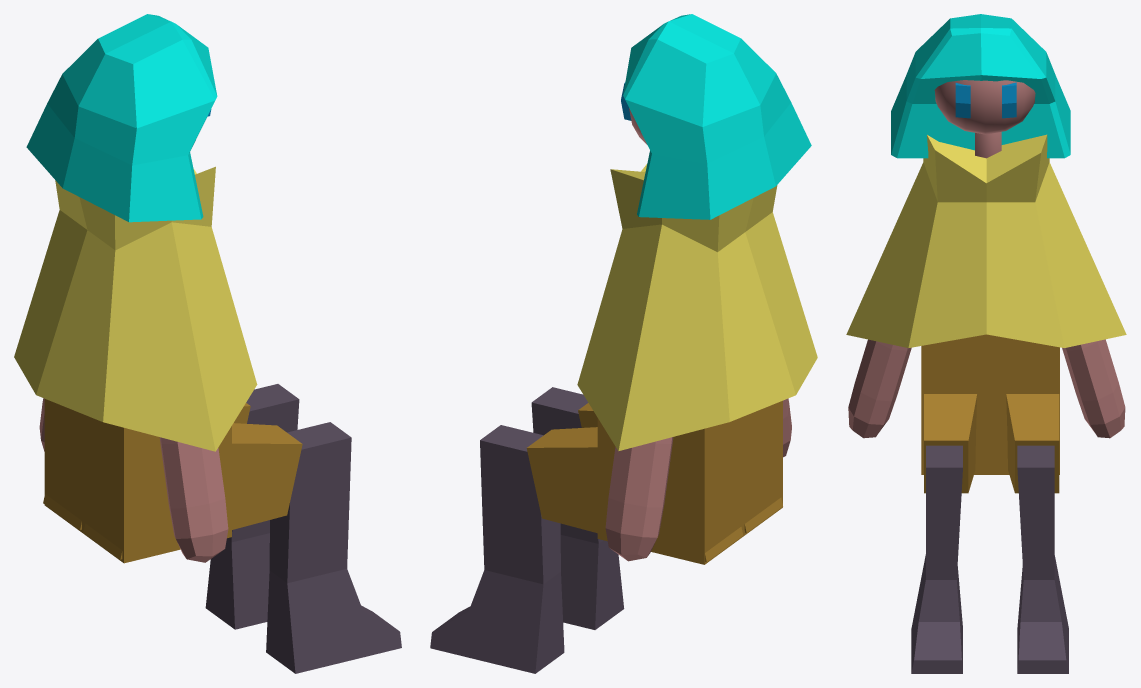
The model's file is npc3.fbx.
3 views of the same model, side by side, from view 1: azimuth 30°, elevation 25°; view 2: azimuth 150°, elevation 25°; view 3: azimuth 270°, elevation 25° (orthographic). The views are drawn at different scales.
Parts seen in each view (by area): view 1: Cube.002, Cube.008, Cube.003, Cube.006, Cube.007, Cube.004; view 2: Cube.002, Cube.008, Cube.003, Cube.006, Cube.007, Cube.004; view 3: Cube.002, Cube.003, Cube.008, Cube.006, Cube.004, Cube.007, Cube, Cube.005, Cube.001.
Boxes of the visible parts, x1,y1,x2,y2 form: Cube.002: (14,166,257,451); Cube.008: (26,14,217,222); Cube.003: (205,384,401,673); Cube.006: (44,399,231,563); Cube.007: (43,403,302,559); Cube.004: (39,398,228,562); Cube.002: (577,164,817,451); Cube.008: (623,14,811,219); Cube.003: (430,387,624,673); Cube.006: (597,400,782,564); Cube.007: (526,403,782,562); Cube.004: (605,398,791,561); Cube.002: (846,134,1126,347); Cube.003: (911,445,1068,673); Cube.008: (891,14,1070,158); Cube.006: (921,334,1059,474); Cube.004: (848,339,1125,438); Cube.007: (924,394,1059,493); Cube: (934,80,1035,134); Cube.005: (955,82,1016,118); Cube.001: (975,132,1001,158).
Bounding box in the file's own units: 364 × 693 × 312.
